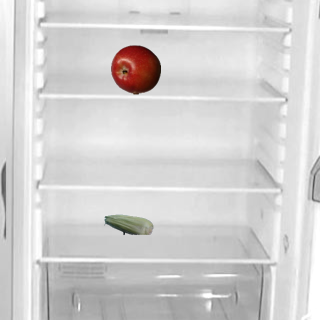Apple Braeburn: (110, 44, 160, 94)
Corn Husk: (103, 199, 153, 249)
